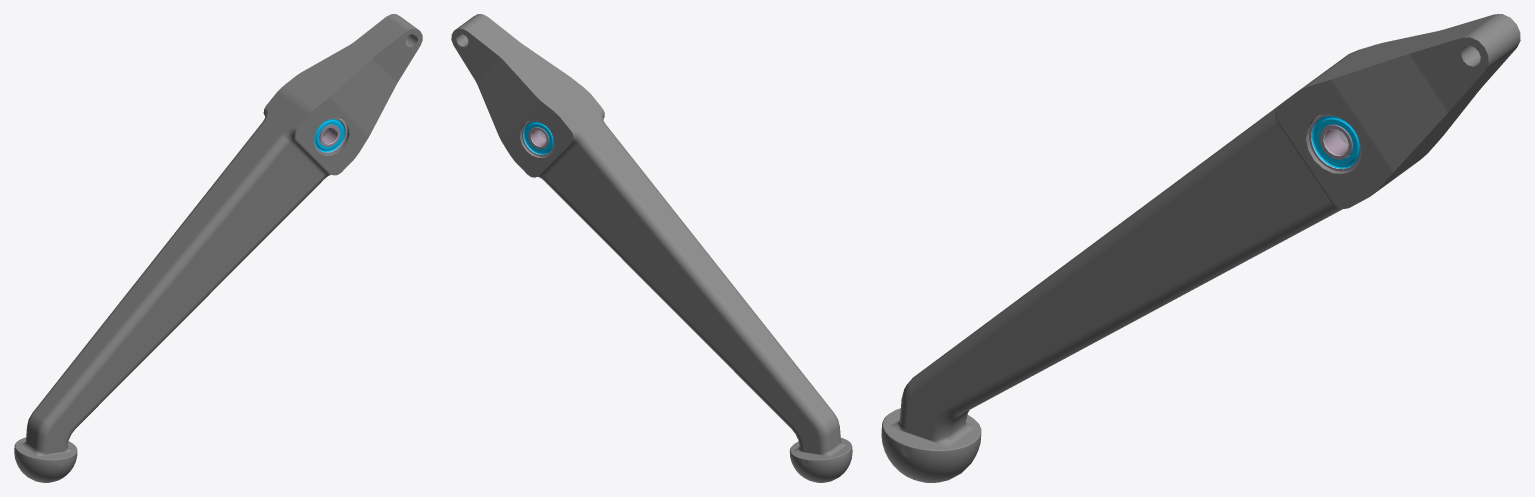
3 renders of one model, left to right at view 1: azimuth 30°, elevation 25°; view 2: azimuth 150°, elevation 25°; view 3: azimuth 330°, elevation 25°, orthographic. The views are drawn at different scales.
Parts seen in each view (by area): view 1: L3_obj; view 2: L3_obj; view 3: L3_obj.
Part boxes in pixels (left/top/right/bottom): L3_obj: left=14, top=14, right=422, bottom=482; L3_obj: left=451, top=14, right=852, bottom=482; L3_obj: left=881, top=14, right=1520, bottom=482.
Bounding box in the file's own units: 0.1007 × 0.014 × 0.0918.
